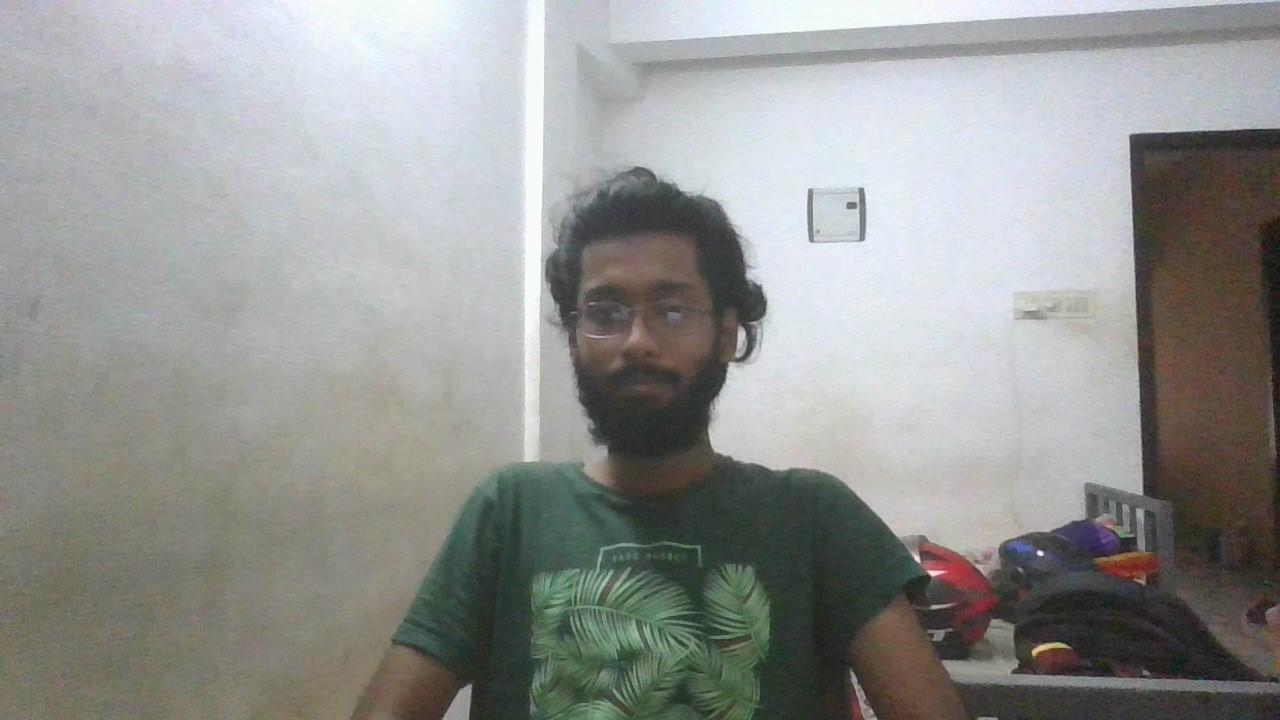nohelmet: (549, 176, 749, 460)
